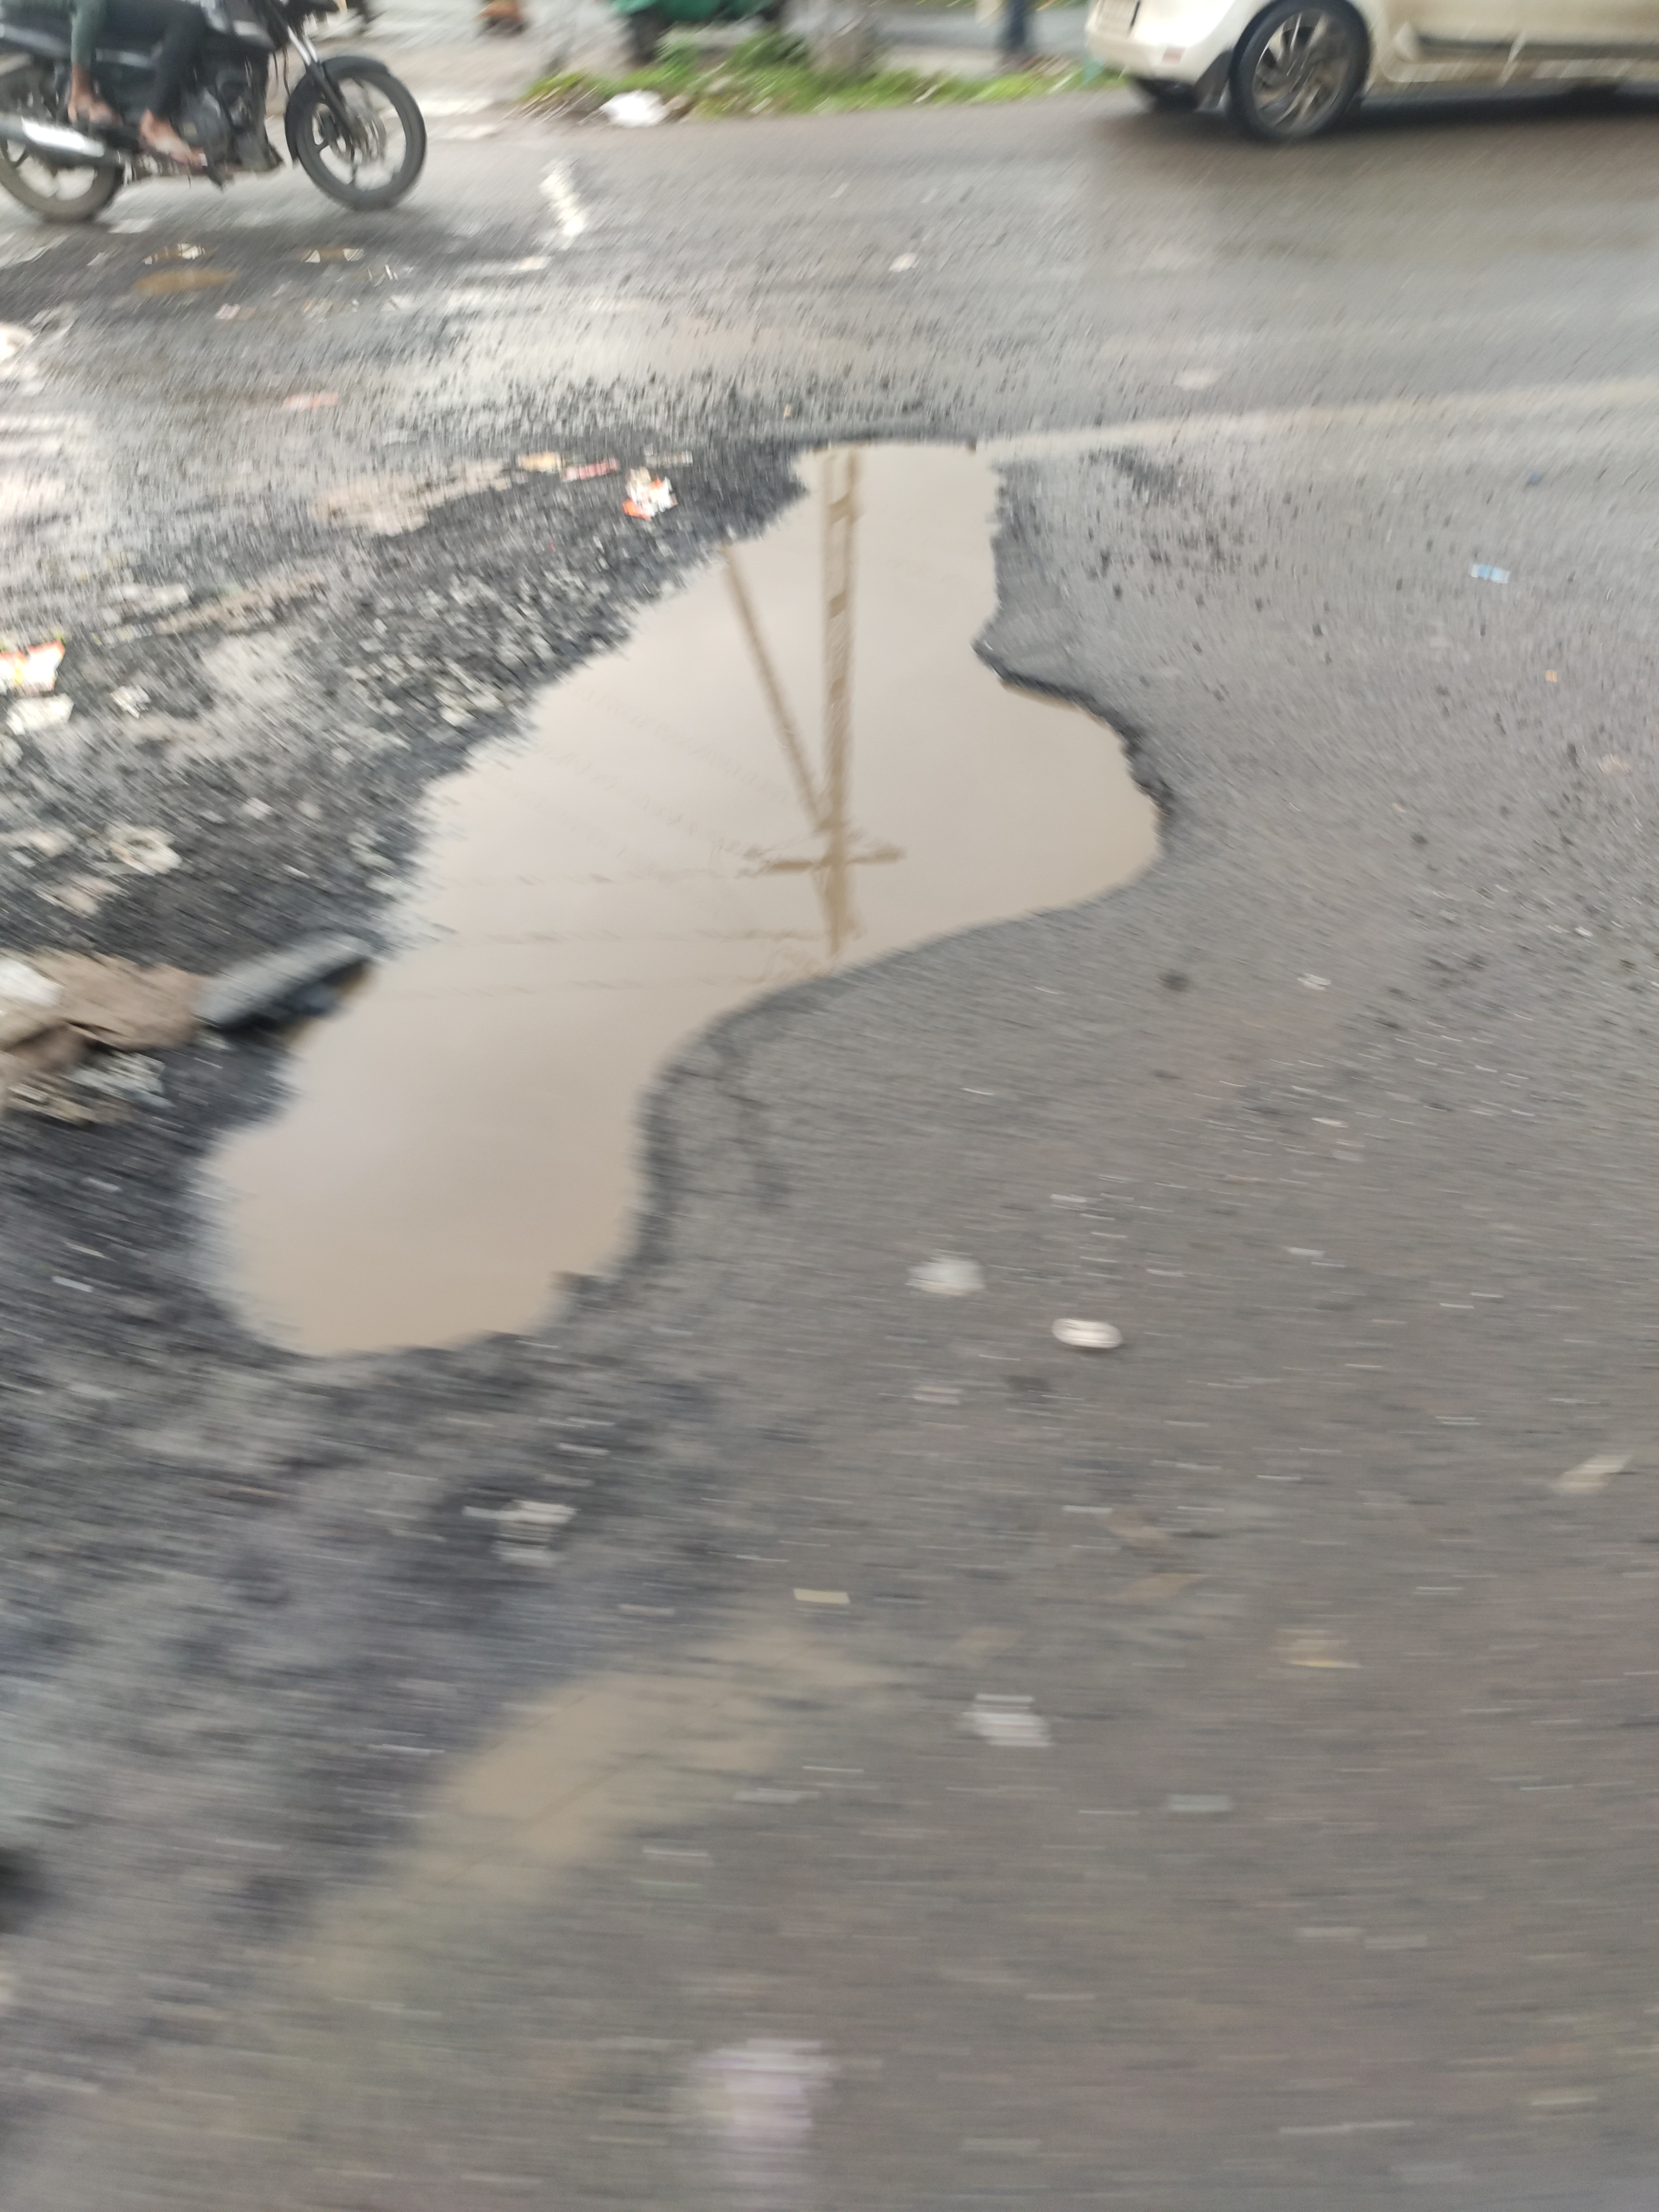potholes: (139, 406, 1201, 1402)
